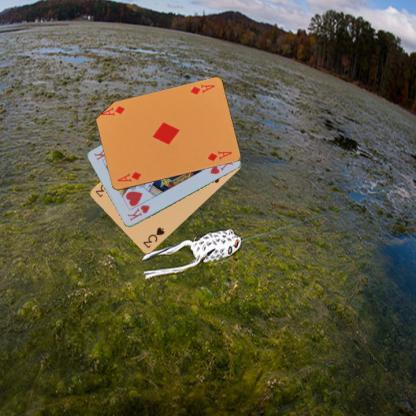3s: (140, 225, 166, 250)
Ad: (114, 169, 143, 184), (188, 82, 216, 96)
Kh: (124, 202, 152, 223)
